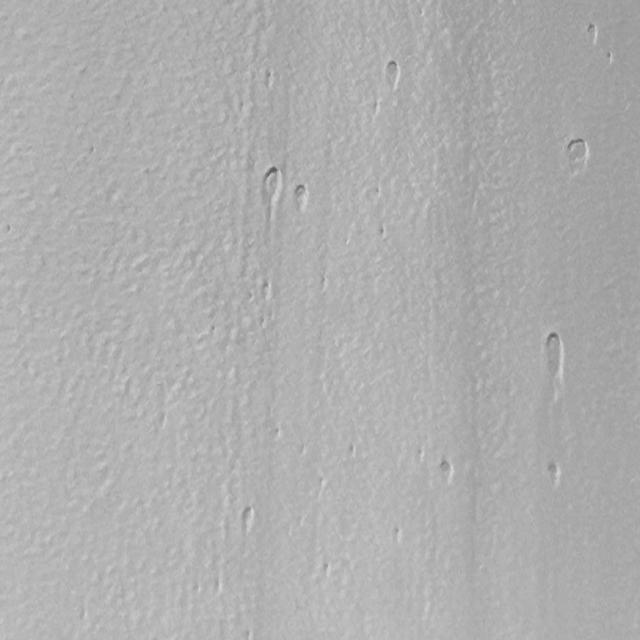pin holes: (536, 331, 567, 391), (255, 164, 285, 218), (561, 137, 590, 174), (291, 181, 311, 213), (545, 458, 566, 487), (383, 60, 403, 90), (237, 506, 258, 534), (436, 456, 456, 485), (584, 22, 599, 45), (259, 280, 274, 302), (318, 561, 332, 582), (393, 525, 406, 547), (264, 70, 276, 90), (346, 440, 356, 462), (378, 222, 388, 241), (272, 424, 281, 444), (257, 314, 267, 331), (606, 50, 616, 66), (320, 274, 328, 292)
